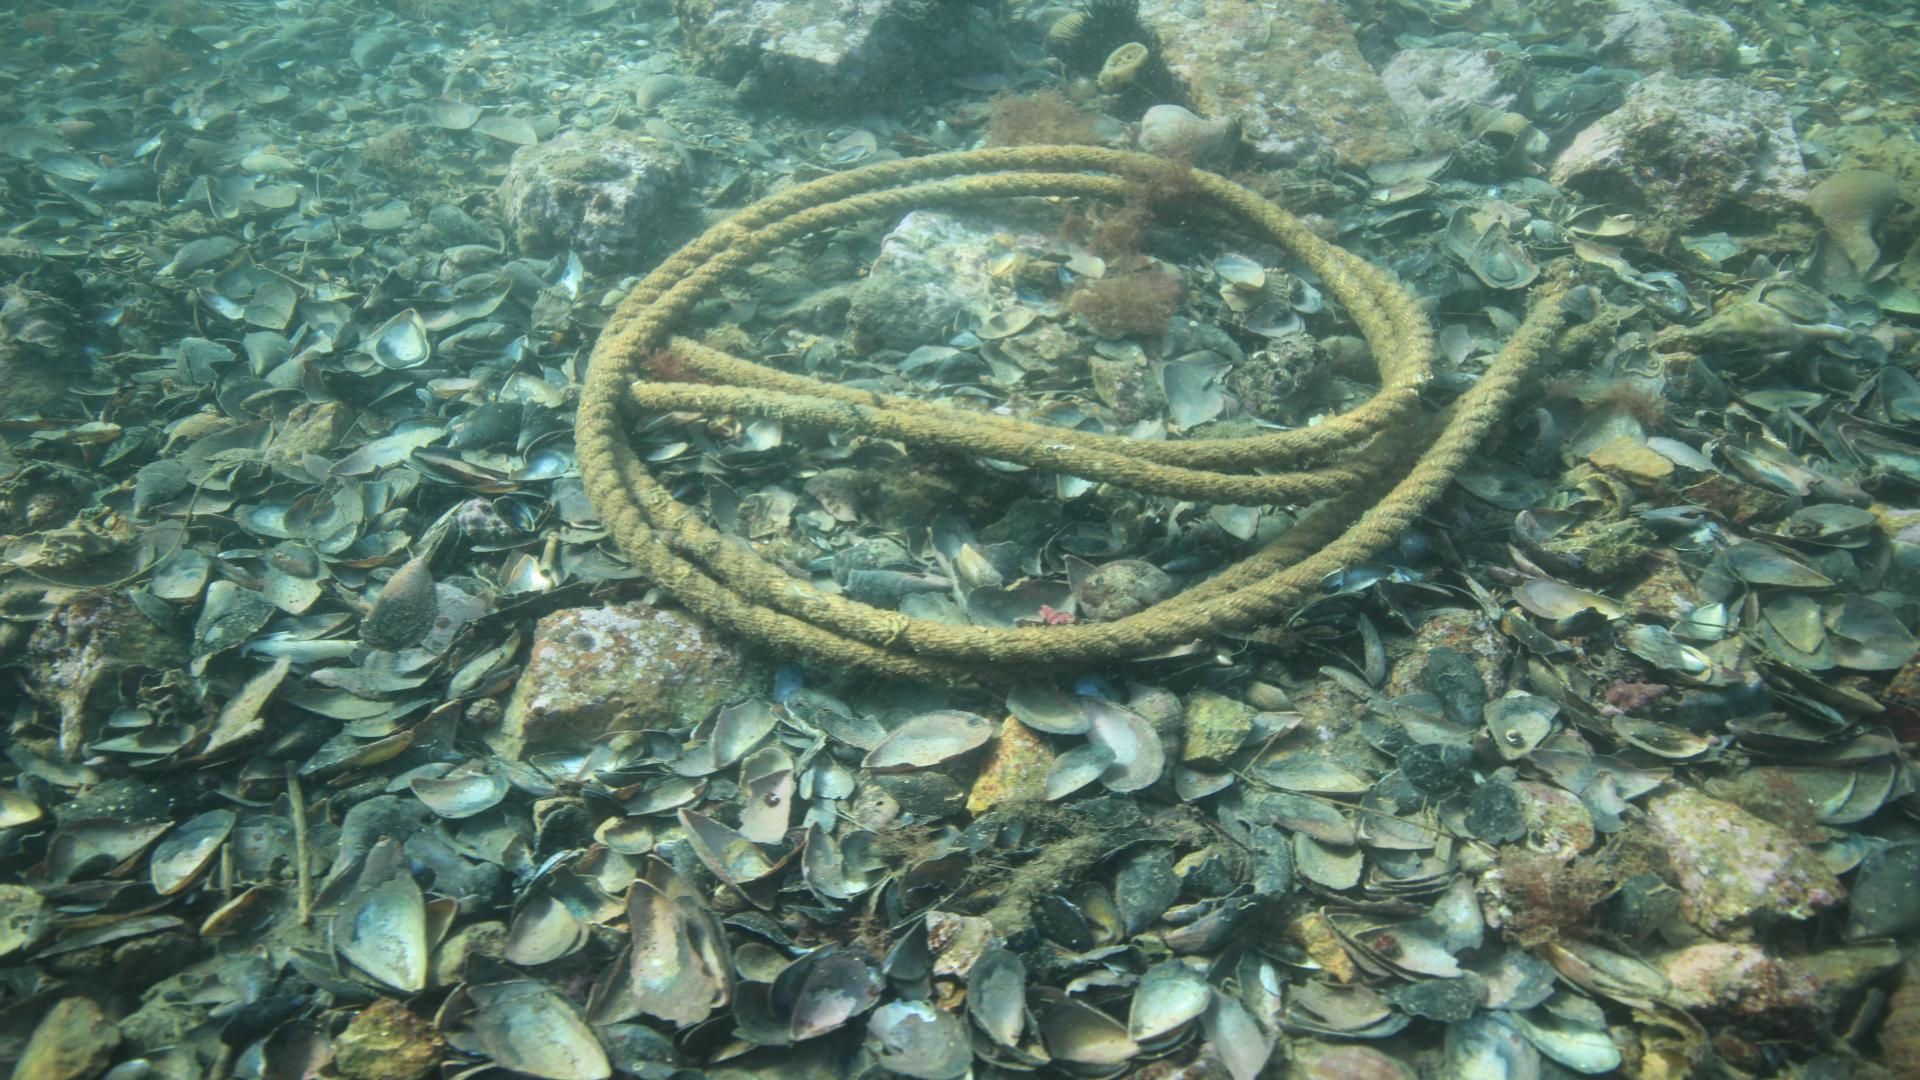bundle of ropes: (564, 138, 1623, 698)
